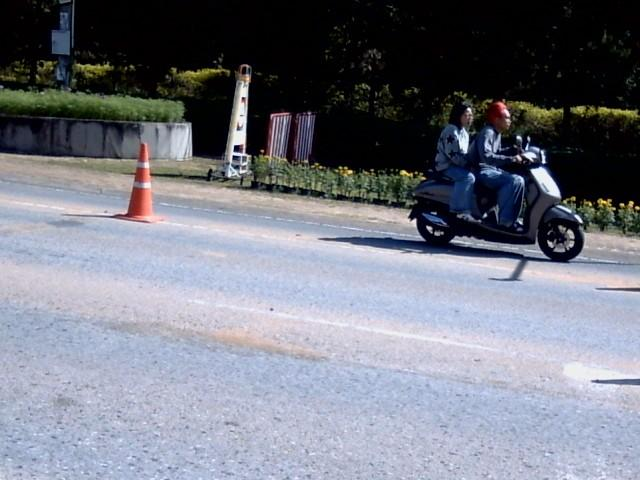motor: (409, 137, 583, 260)
no-helmet: (486, 102, 512, 134), (449, 101, 475, 127)
person: (467, 101, 524, 232), (436, 102, 476, 221)
